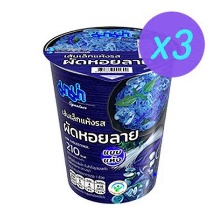paper_cup: (38, 19, 184, 207)
